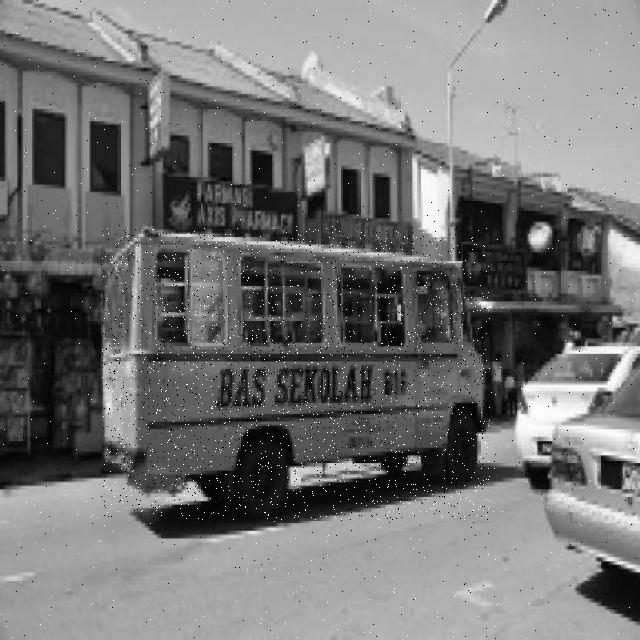Bus- Small: (102, 228, 490, 520)
